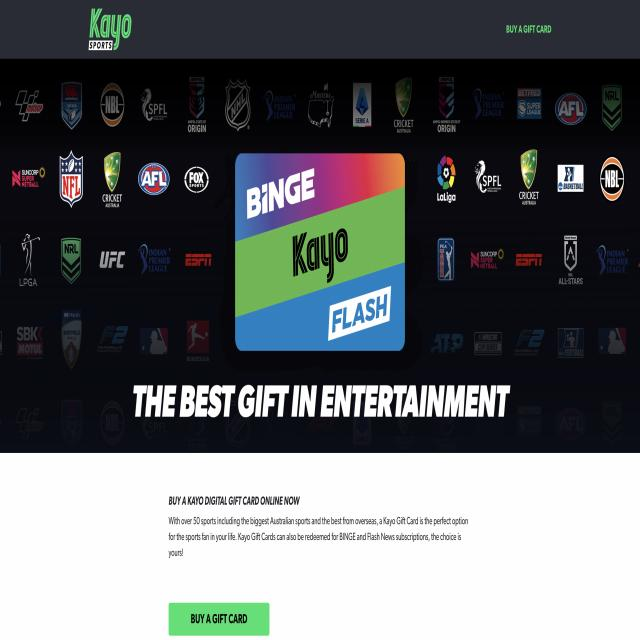Logo: (80, 3, 143, 56)
